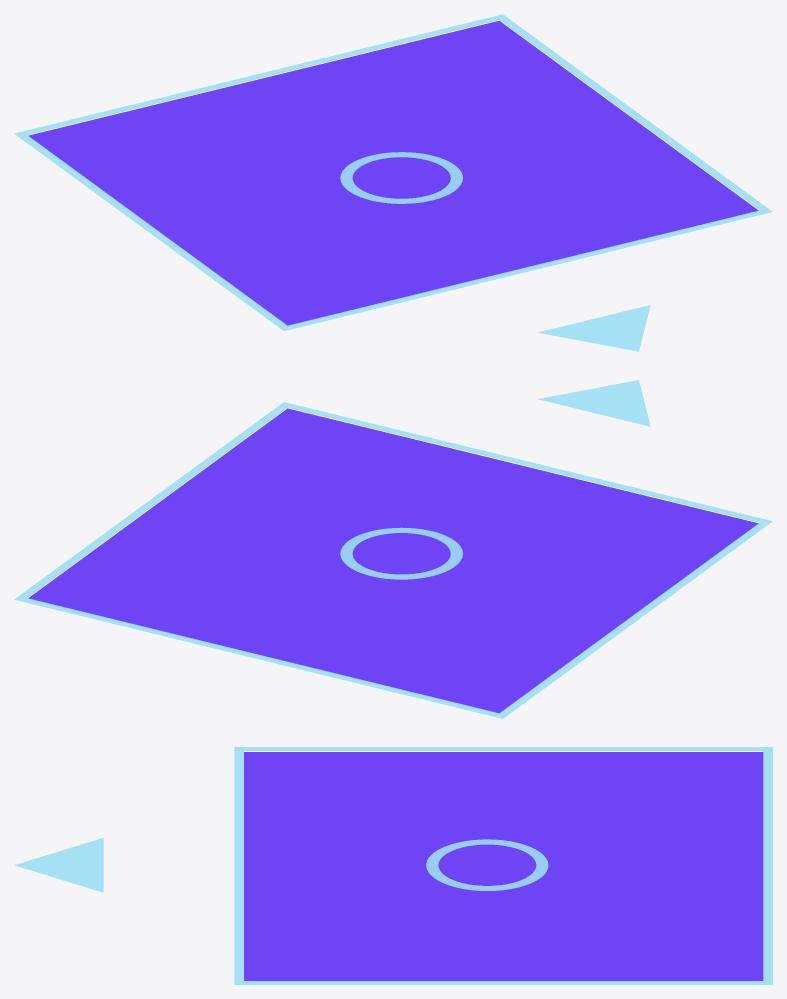
File: reticle.glb
The picture shows the model from 3 angles, top to bottom: view 1: azimuth 30°, elevation 25°; view 2: azimuth 150°, elevation 25°; view 3: azimuth 270°, elevation 25°; orthographic projection.
Parts seen in each view (by area): view 1: Reticle; view 2: Reticle; view 3: Reticle.
Part boxes in pixels (box(x1,y1,x2,y2)): Reticle: box(14, 14, 772, 351); Reticle: box(14, 380, 772, 718); Reticle: box(14, 747, 772, 984).
Size of the model in its own units: 0.69 by 0.002 by 0.93.
